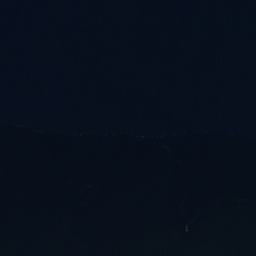Marine Debris: (0, 121, 183, 152)
